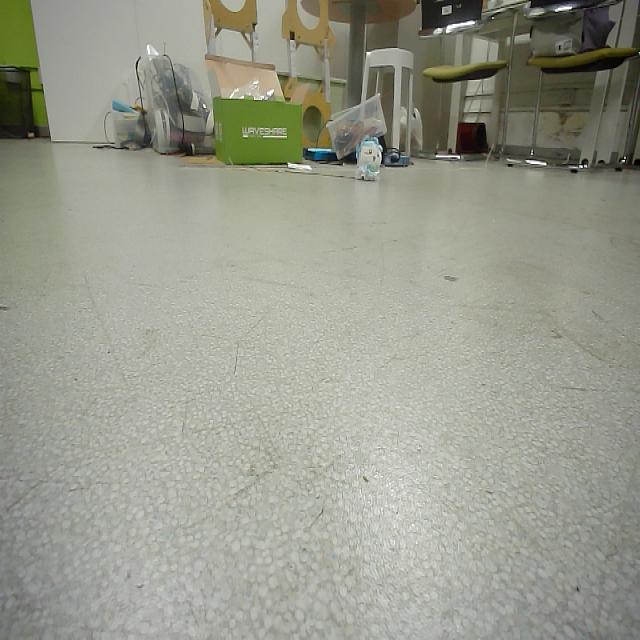xiaoba: (356, 133, 384, 181)
